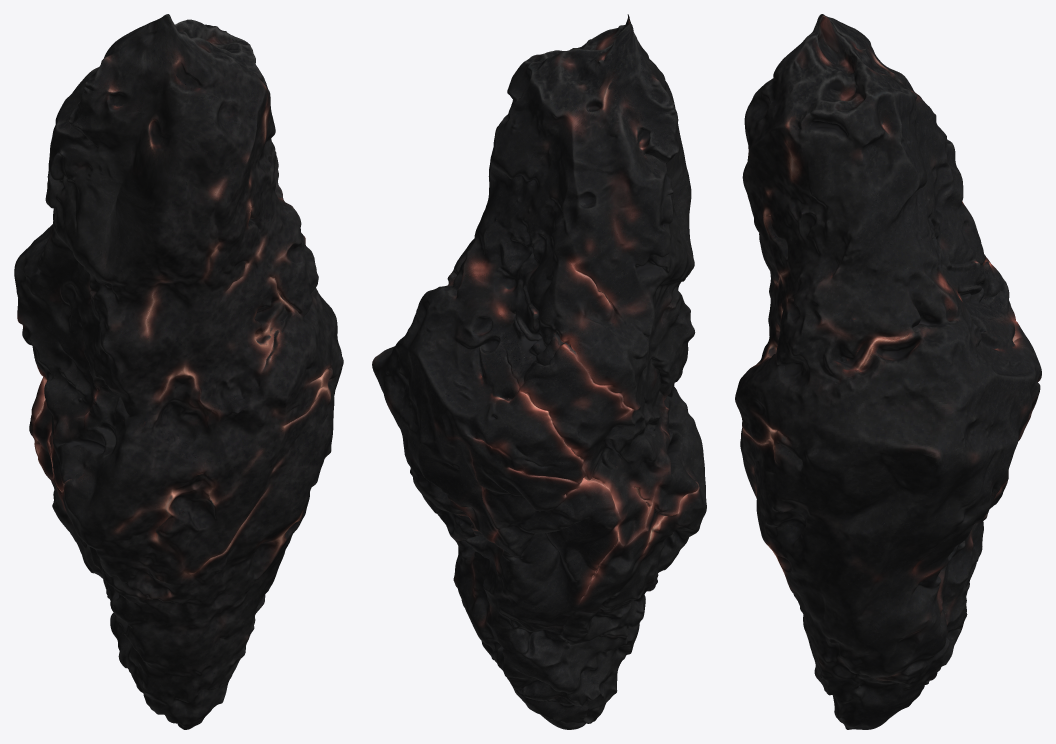
The model's file is shard-01.glb.
3 renders of one model, left to right at view 1: azimuth 30°, elevation 25°; view 2: azimuth 150°, elevation 25°; view 3: azimuth 270°, elevation 25°, orthographic. The views are drawn at different scales.
Parts seen in each view (by area): view 1: Onyx_Shard_Web; view 2: Onyx_Shard_Web; view 3: Onyx_Shard_Web.
Part boxes in pixels (x1,y1,x2,y2): Onyx_Shard_Web: (14,14,343,729); Onyx_Shard_Web: (372,14,706,729); Onyx_Shard_Web: (735,14,1041,729).
Size of the model in its own units: 0.8137 by 1.95 by 0.7748.
Materials: 1 (1 with a texture image).
